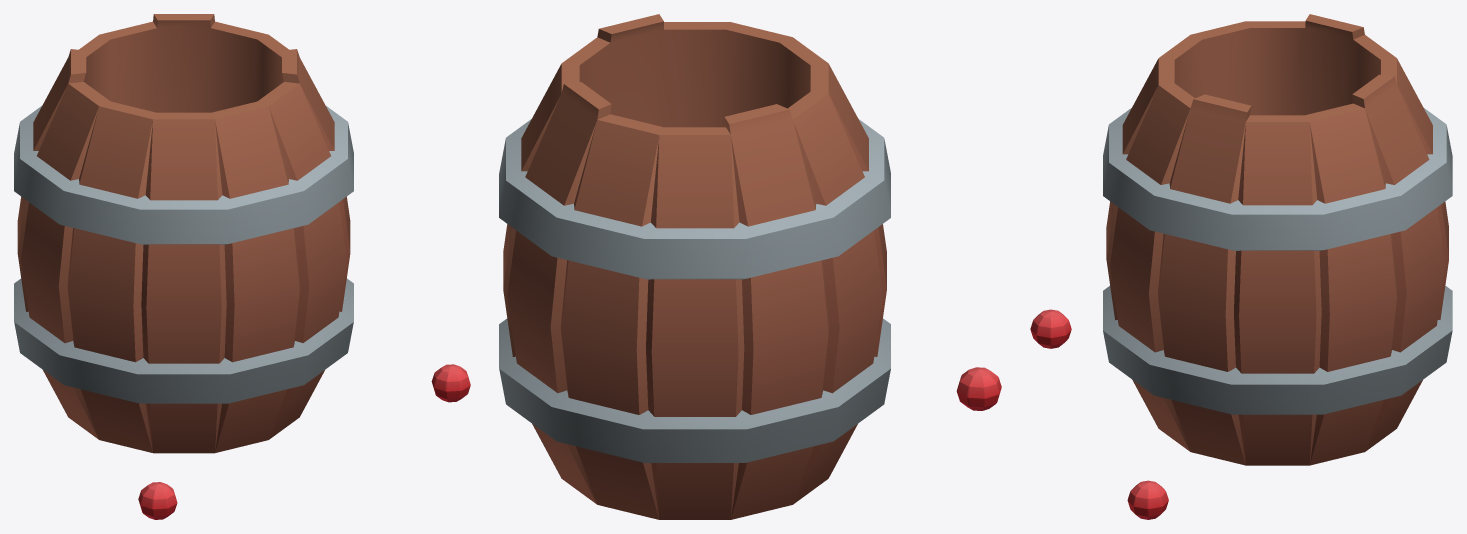
Rendered from apple_barrel_4.glb.
The picture shows the model from 3 angles, left to right: view 1: azimuth 30°, elevation 25°; view 2: azimuth 150°, elevation 25°; view 3: azimuth 270°, elevation 25°; orthographic projection. The views are drawn at different scales.
Visible parts, largest first — view 1: apple_barrel_4; view 2: apple_barrel_4; view 3: apple_barrel_4.
Boxes of the visible parts, x1,y1,x2,y2 form: apple_barrel_4: (14,14,470,519); apple_barrel_4: (499,14,1001,519); apple_barrel_4: (1030,14,1452,519).
Bounding box in the file's own units: 1.38 × 1.2 × 1.3.
2 materials, 2 textured.
